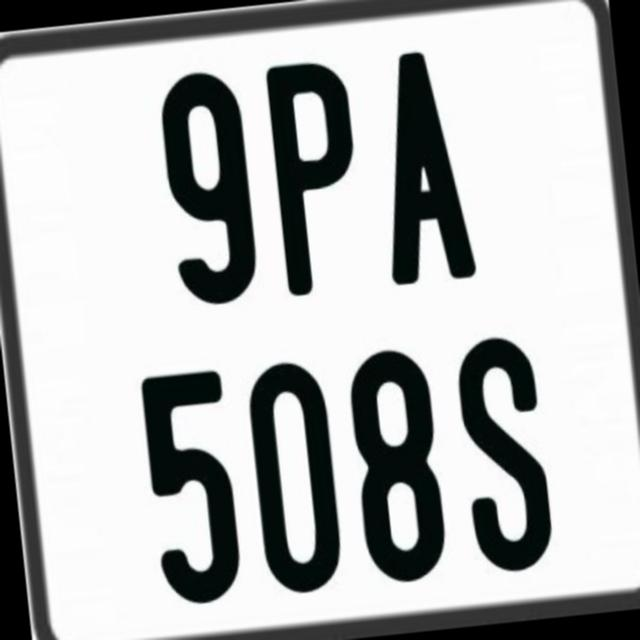0: (240, 354, 346, 592)
5: (140, 368, 246, 612)
8: (342, 346, 447, 592)
9: (152, 68, 264, 308)
A: (366, 44, 478, 288)
P: (260, 54, 368, 300)
S: (451, 332, 559, 576)
